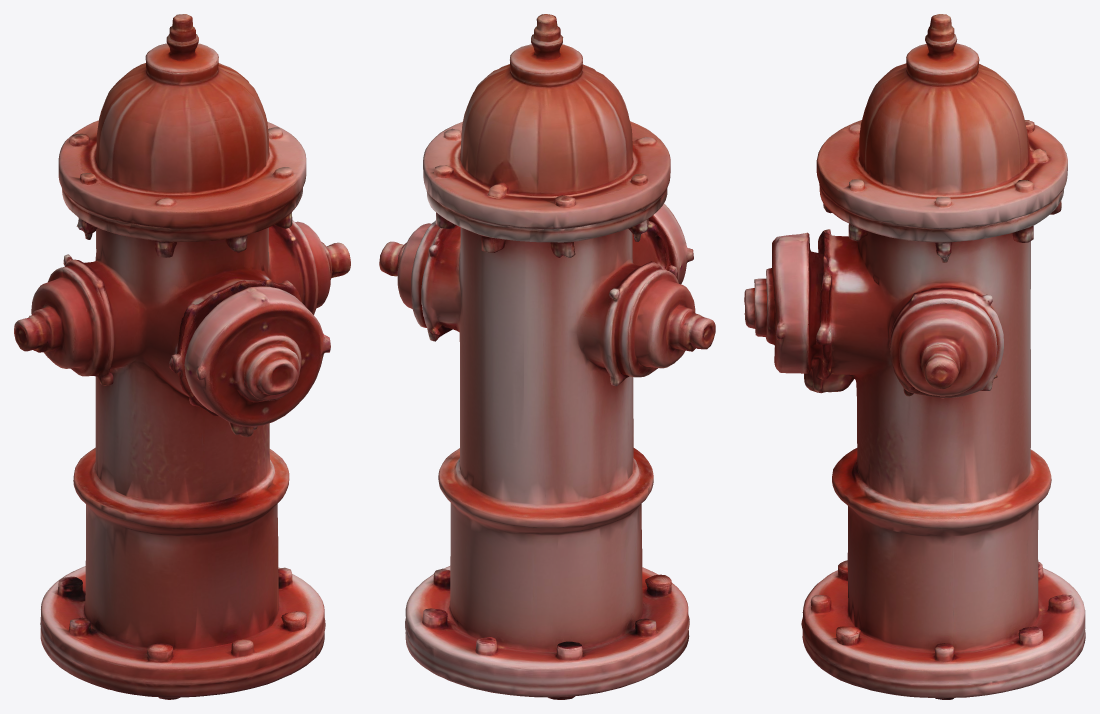
File: asset.glb
3 renders of one model, left to right at view 1: azimuth 30°, elevation 25°; view 2: azimuth 150°, elevation 25°; view 3: azimuth 270°, elevation 25°, orthographic.
Visible parts, largest first — view 1: world; view 2: world; view 3: world.
Part boxes in pixels (x1,y1,x2,y2): world: [14, 14, 350, 699]; world: [379, 14, 715, 699]; world: [744, 14, 1085, 699].
Size of the model in its own units: 0.5288 by 0.9903 by 0.4821.
1 material, 1 textured.
